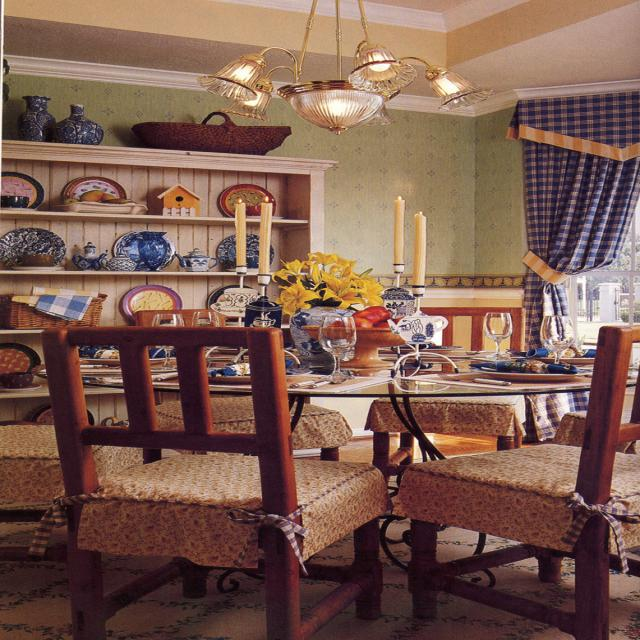chair -occluded-: (35, 325, 386, 635)
